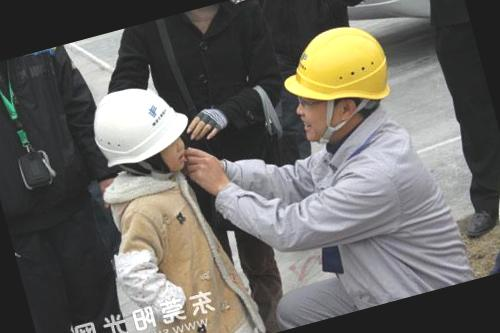helmet: (270, 6, 402, 123), (78, 72, 197, 174)
no_vest: (239, 103, 455, 324), (79, 164, 243, 333)
person: (203, 0, 479, 331), (47, 63, 252, 333)
